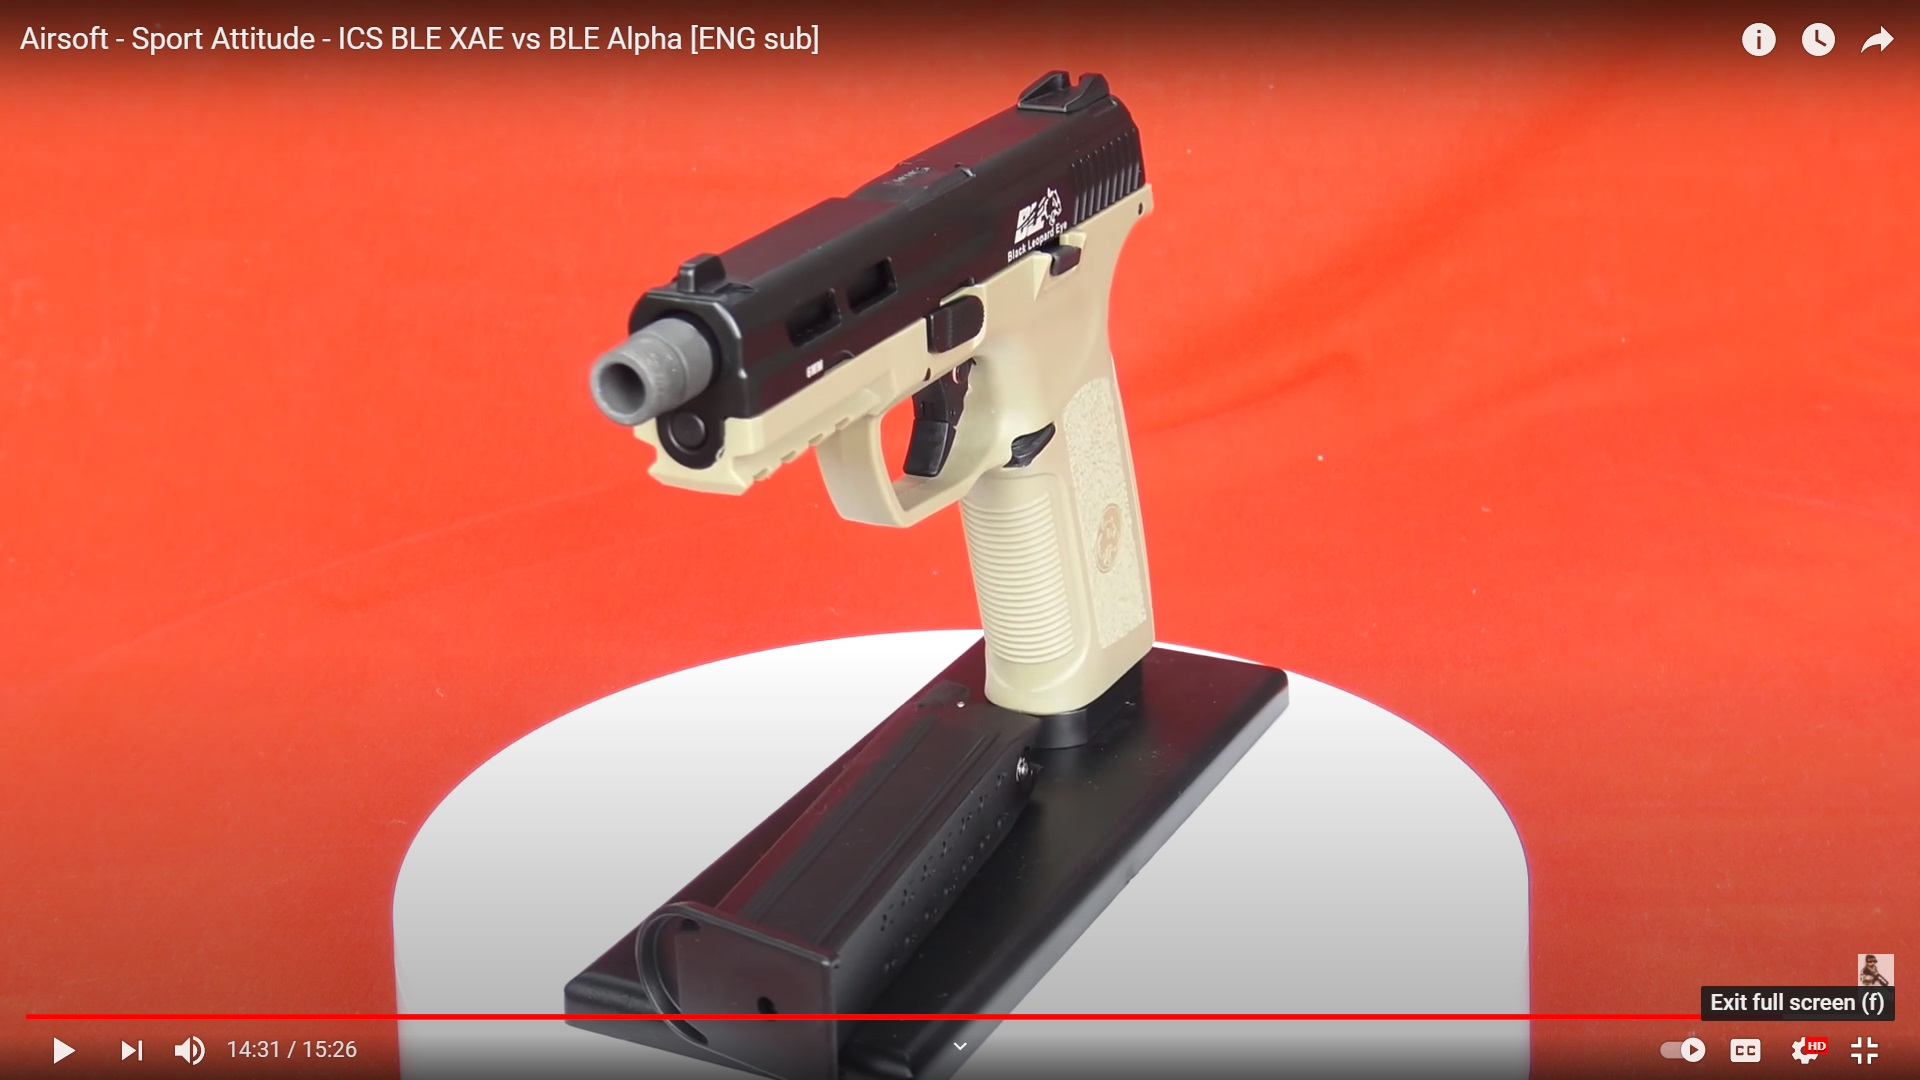asg_ics_ble_xae: (576, 74, 1178, 702)
